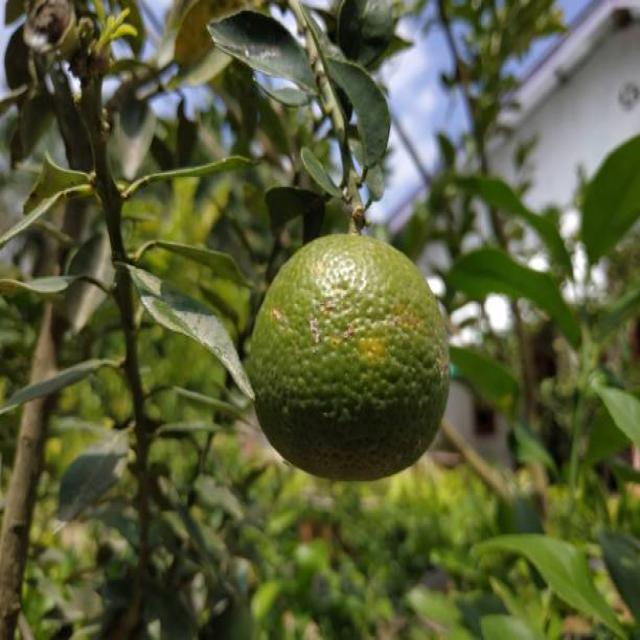Unripe: (249, 230, 452, 484)
